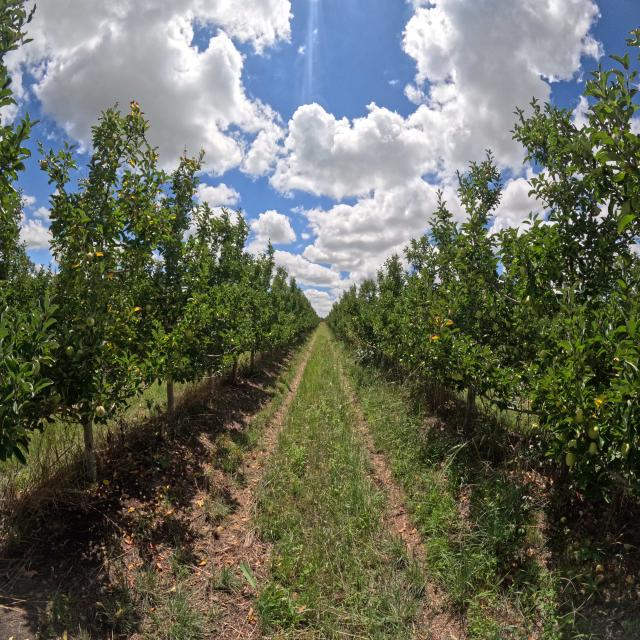-FireBlight-: (425, 330, 438, 346), (443, 318, 454, 326)
